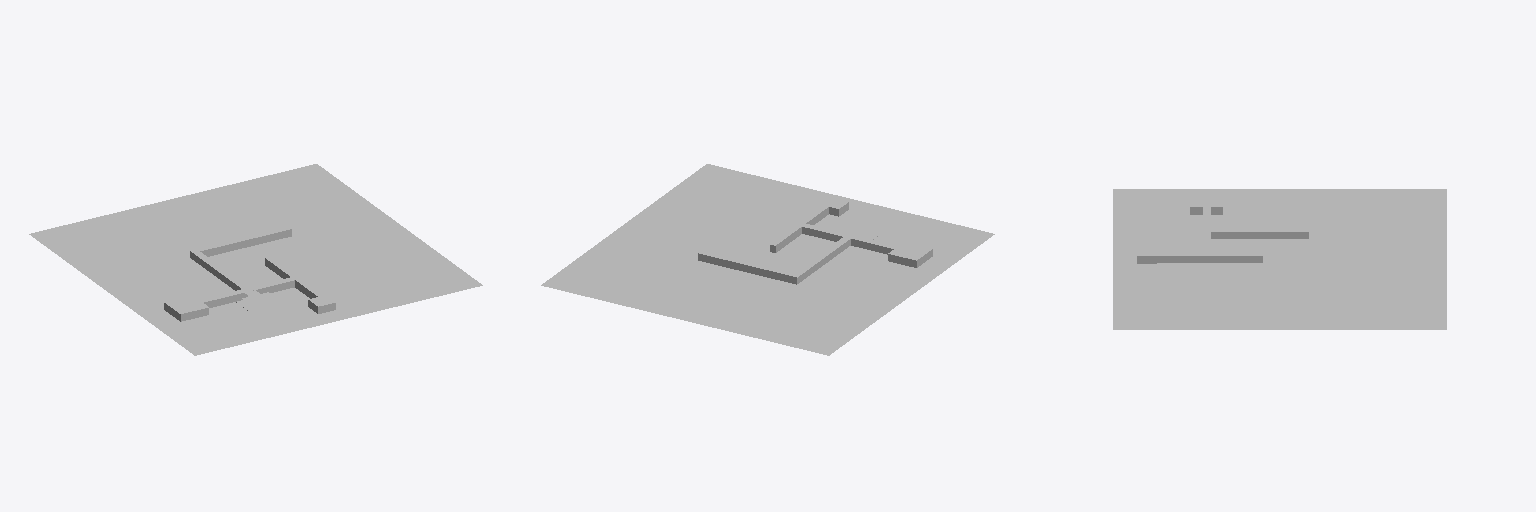
The model's file is awal1.obj.
3 renders of one model, left to right at view 1: azimuth 30°, elevation 25°; view 2: azimuth 150°, elevation 25°; view 3: azimuth 270°, elevation 25°, orthographic.
Parts seen in each view (by area): view 1: Plane, Cube.005_Cube.007; view 2: Plane, Cube.005_Cube.007, Cube.002_Cube.004; view 3: Plane, Cube.001_Cube.003, Cube.003_Cube.005, 1_Cube.020.
Boxes of the visible parts, x1,y1,x2,y2 form: Plane: [29, 164, 482, 355]; Cube.005_Cube.007: [200, 229, 291, 256]; Plane: [541, 164, 994, 355]; Cube.005_Cube.007: [698, 253, 790, 282]; Cube.002_Cube.004: [802, 227, 893, 254]; Plane: [1113, 189, 1446, 329]; Cube.001_Cube.003: [1157, 256, 1262, 262]; Cube.003_Cube.005: [1211, 232, 1308, 238]; 1_Cube.020: [1157, 233, 1316, 284].
Bounding box in the file's own units: 100 × 2.59 × 100.